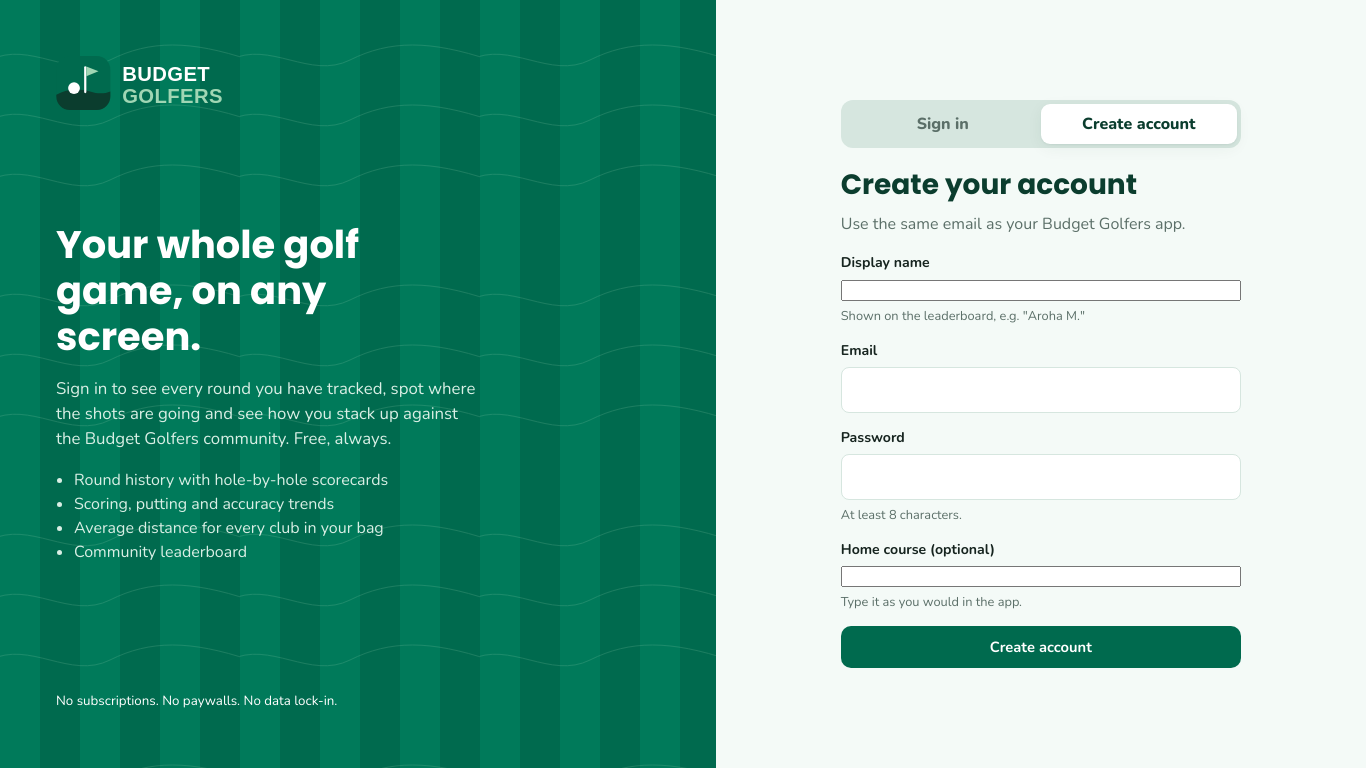
Test case: routing and sign-in › registering with a used email shows the 409 under the email field
In the field labelled "Display name": (1041, 290) [841,280,1241,300], type "Aroha M."
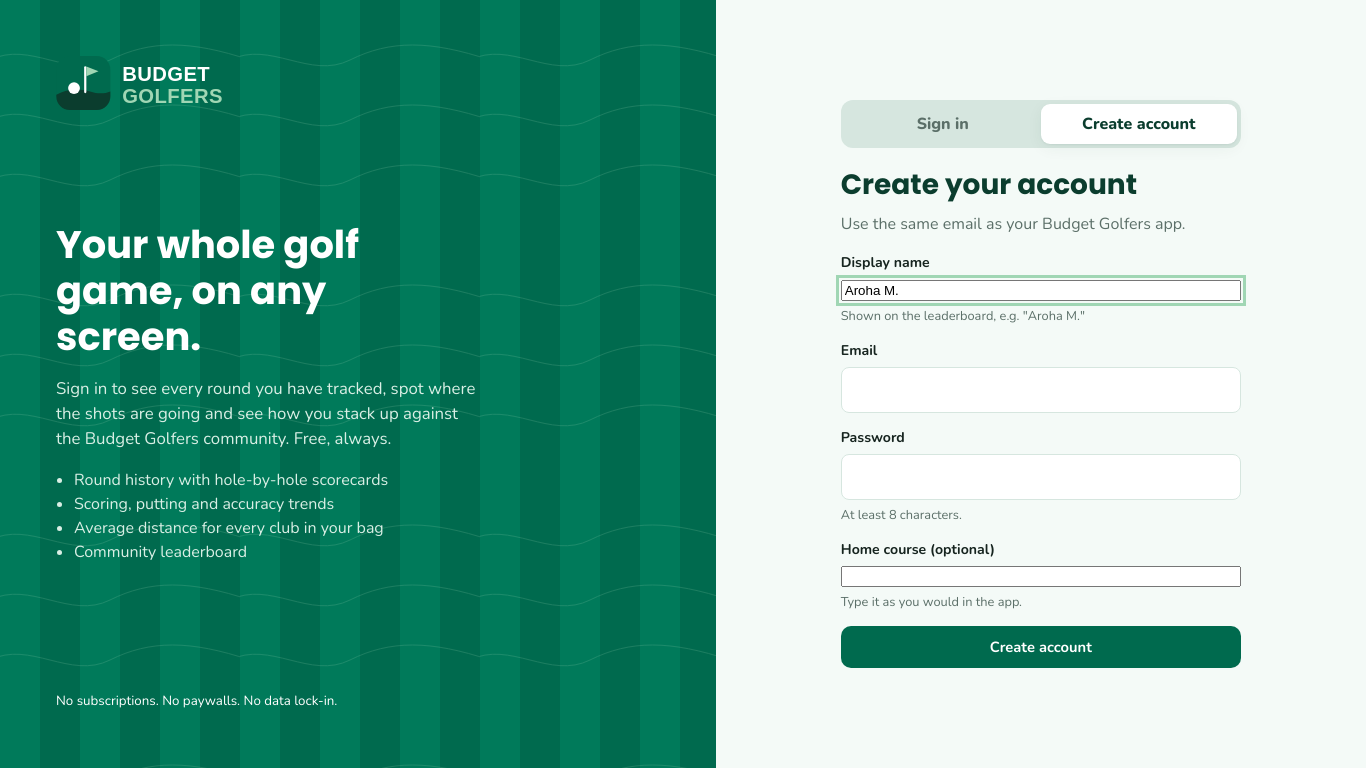
In the field labelled "Email": (1041, 390) [841,367,1241,413], type "aroha.m@example.com"
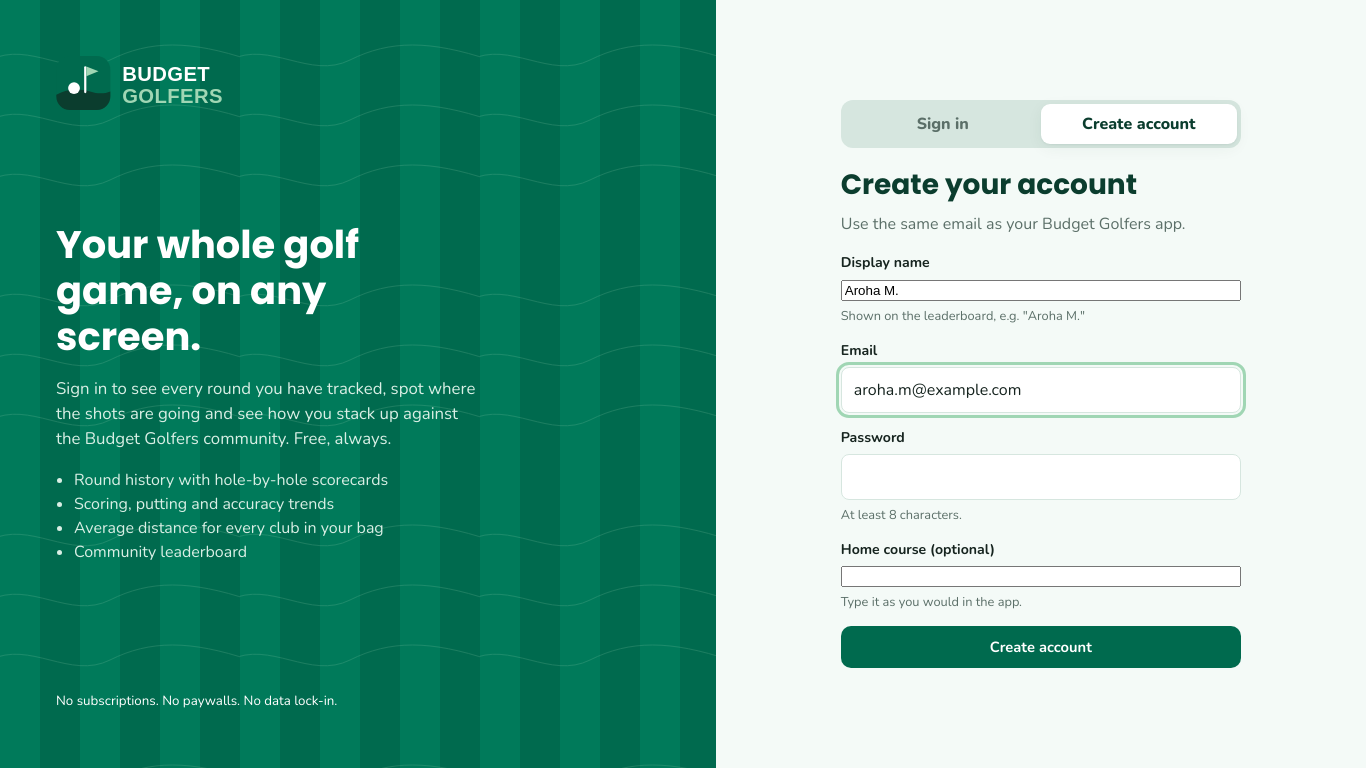
In the password field labelled "Password": (1041, 477) [841,454,1241,500], type "Correct-Horse-7"
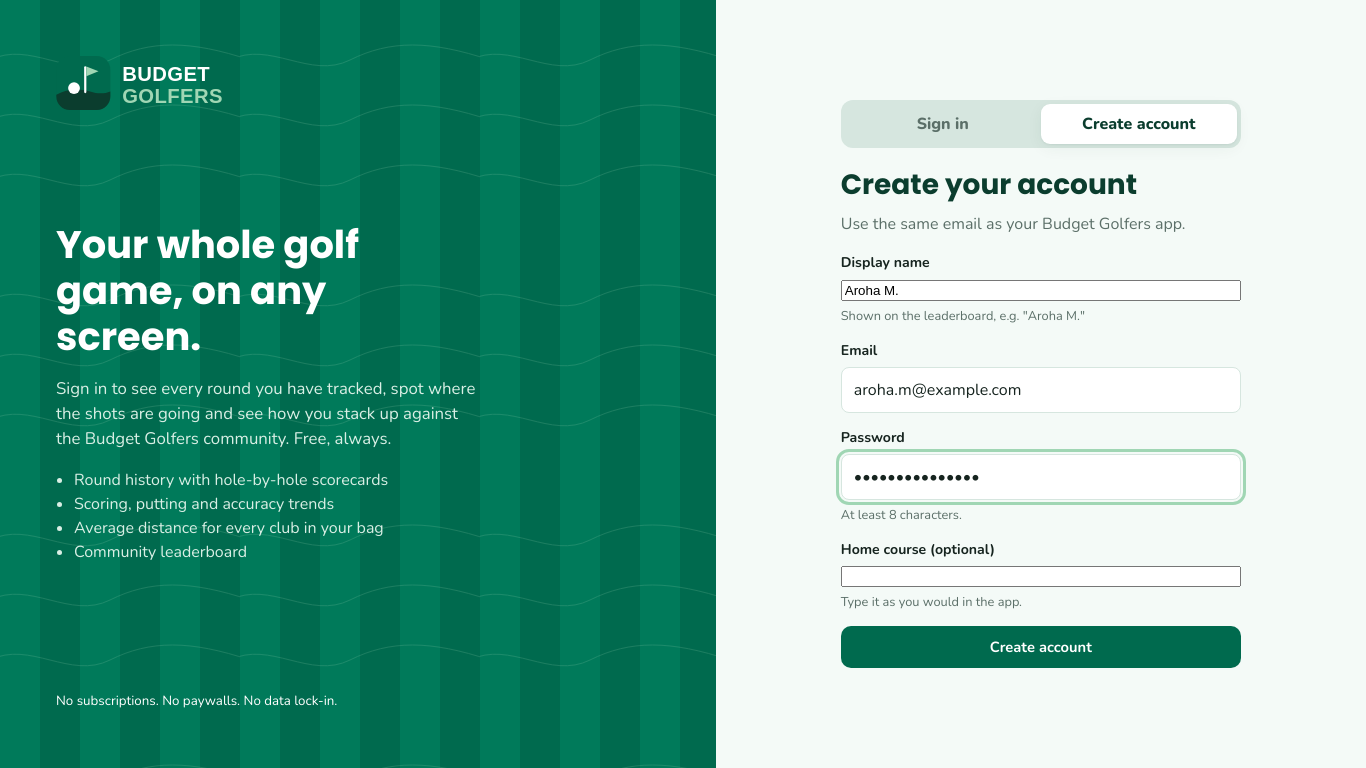
Click the button "Create account": (1041, 647) [841,626,1241,668]
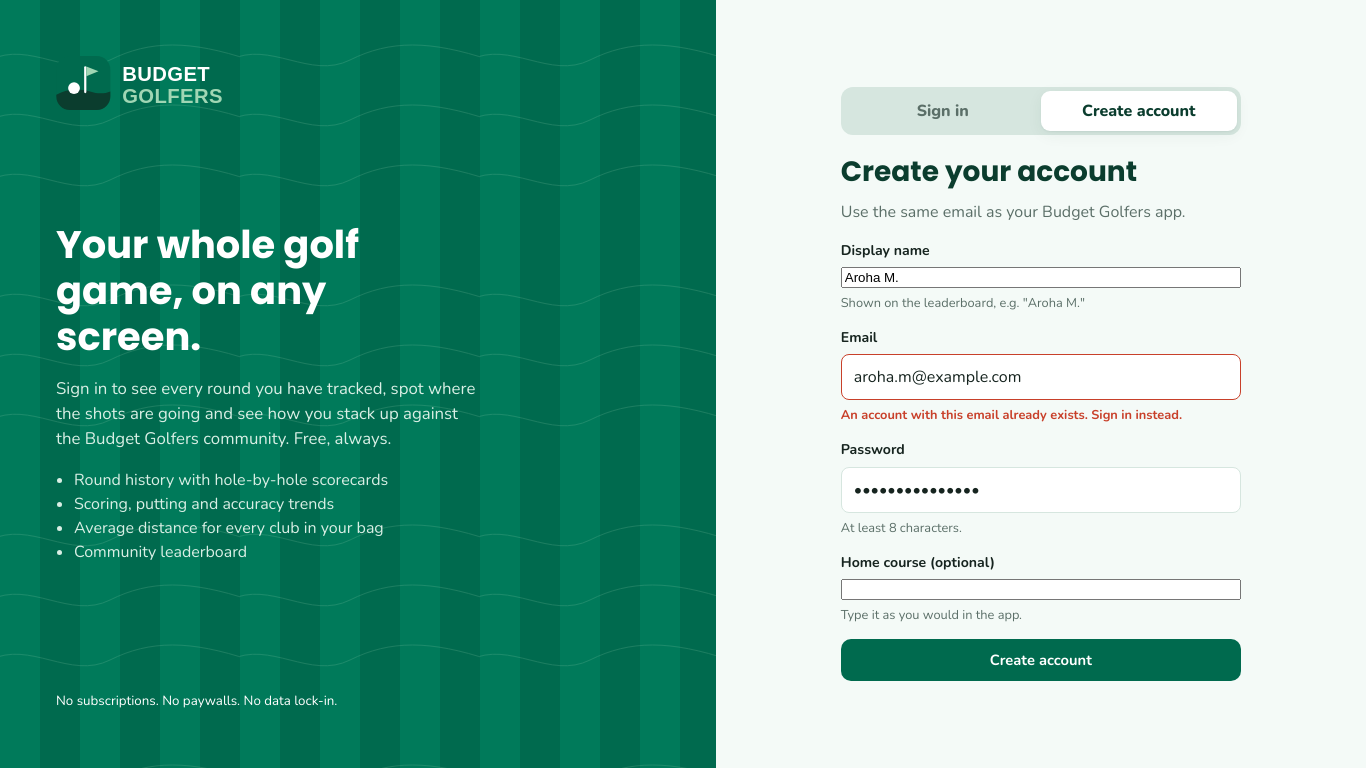
Expected: the text "An account with this email already exists. Sign in instead." is shown, [841,406,1241,425]
